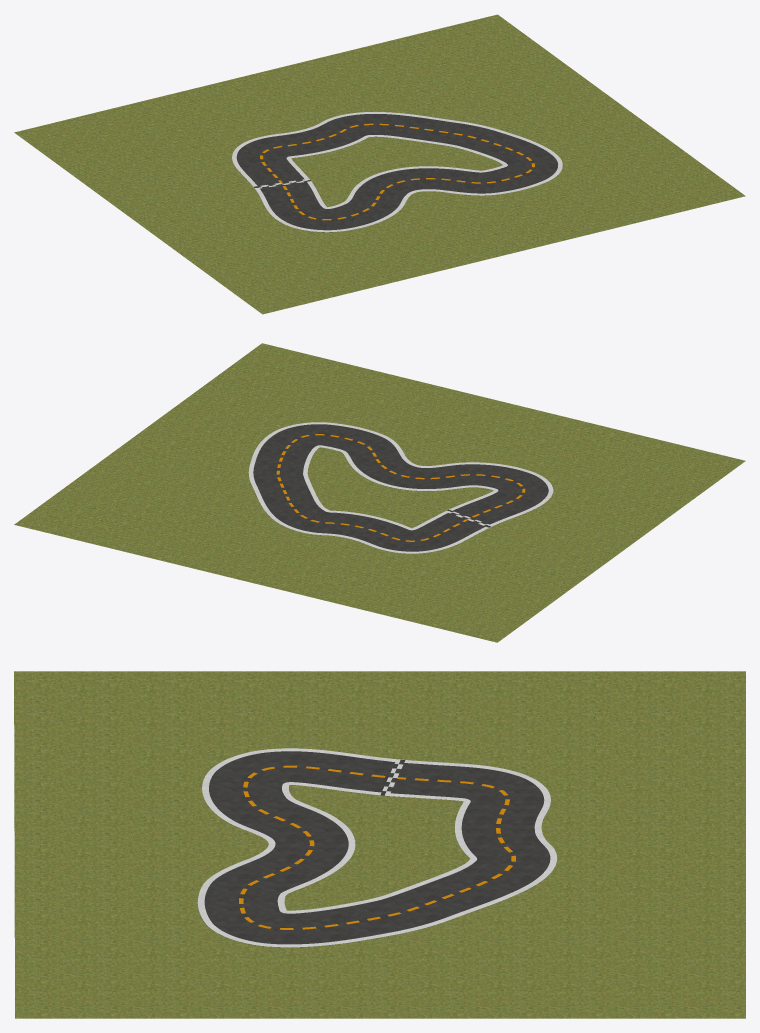
File: Amoeba.dae
The picture shows the model from 3 angles, top to bottom: view 1: azimuth 30°, elevation 25°; view 2: azimuth 150°, elevation 25°; view 3: azimuth 270°, elevation 25°; orthographic projection. The views are drawn at different scales.
Parts seen in each view (by area): view 1: field, road, ol, il, cl; view 2: field, road, ol, il, cl; view 3: field, road, ol, il, cl.
Part boxes in pixels (bbox=[...]): field: bbox=[14, 14, 745, 314]; road: bbox=[236, 114, 558, 232]; ol: bbox=[232, 112, 562, 232]; il: bbox=[286, 135, 507, 208]; cl: bbox=[260, 123, 534, 220]; field: bbox=[14, 343, 745, 642]; road: bbox=[253, 424, 548, 553]; ol: bbox=[248, 422, 553, 553]; il: bbox=[303, 445, 498, 530]; cl: bbox=[276, 434, 525, 541]; field: bbox=[14, 671, 745, 1018]; road: bbox=[204, 751, 554, 947]; ol: bbox=[197, 748, 557, 947]; il: bbox=[277, 782, 476, 913]; cl: bbox=[239, 765, 515, 929].
Size of the model in its own units: 9 by 8.01 by 0.0025.
Materials: 6 (6 with a texture image).
